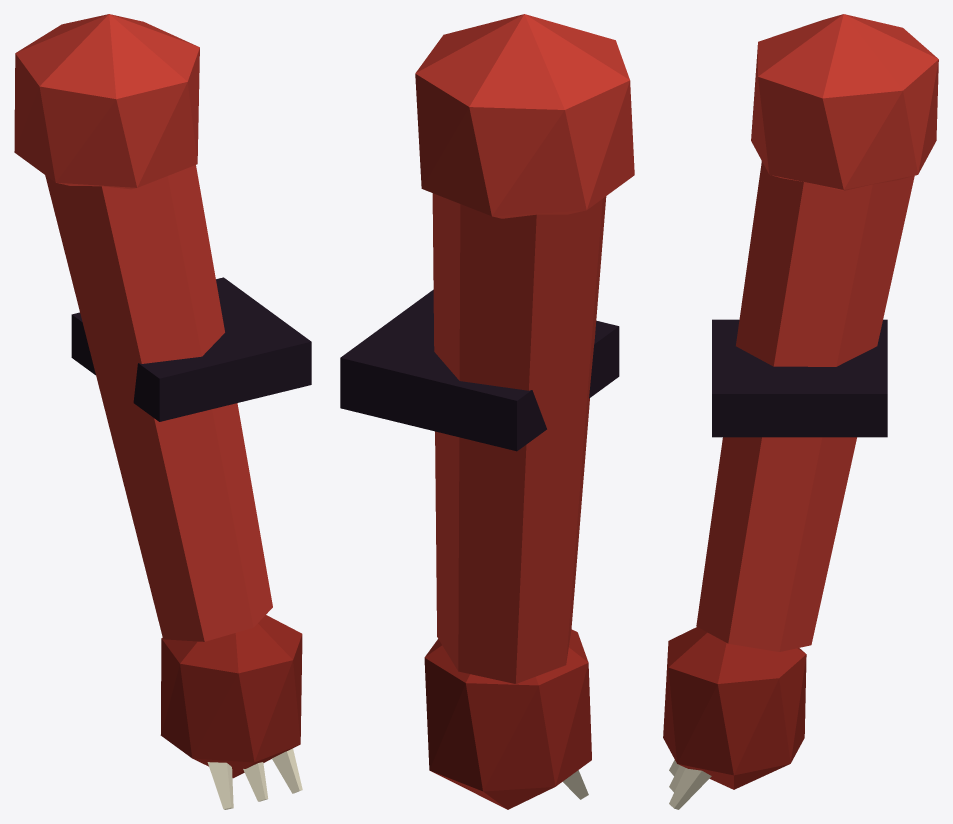
Rendered from goblin_3_arm_l.glb.
3 views of the same model, side by side, from view 1: azimuth 30°, elevation 25°; view 2: azimuth 150°, elevation 25°; view 3: azimuth 270°, elevation 25° (orthographic). The views are drawn at different scales.
Visible parts, largest first — view 1: goblin_3_arm_l; view 2: goblin_3_arm_l; view 3: goblin_3_arm_l.
Boxes of the visible parts, x1,y1,x2,y2 form: goblin_3_arm_l: (14,14,311,809); goblin_3_arm_l: (340,14,634,809); goblin_3_arm_l: (663,14,938,809).
Bounding box in the file's own units: 0.1254 × 0.4117 × 0.1381.
